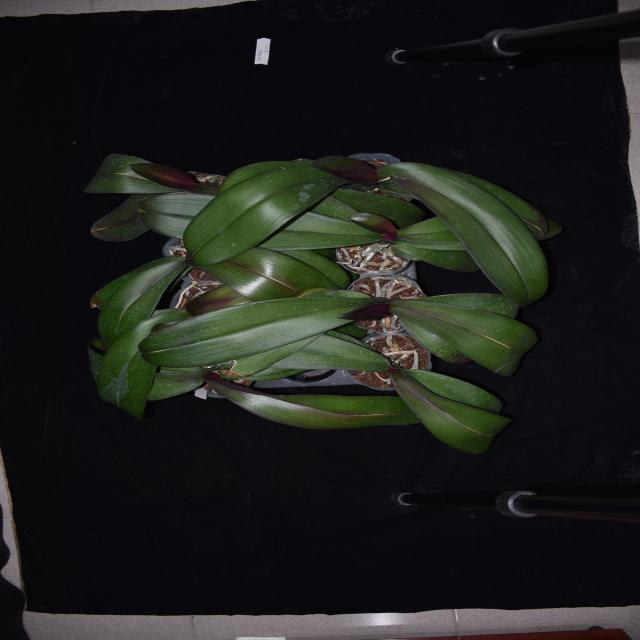leaf: (375, 160, 549, 302), (139, 293, 393, 368), (182, 158, 344, 264), (143, 194, 378, 250), (392, 363, 511, 457), (390, 299, 537, 375), (207, 376, 421, 428), (99, 309, 187, 417), (90, 258, 186, 351), (451, 163, 562, 239), (197, 246, 338, 297), (266, 334, 394, 371), (228, 330, 330, 376), (404, 369, 504, 414), (86, 150, 193, 192), (336, 184, 425, 231), (392, 314, 467, 365), (229, 334, 319, 375), (89, 193, 157, 243), (386, 243, 481, 272), (428, 289, 522, 317), (312, 150, 376, 186), (130, 162, 198, 190), (351, 208, 399, 243), (398, 217, 462, 242), (146, 372, 206, 398), (339, 300, 395, 323), (300, 288, 374, 299)
